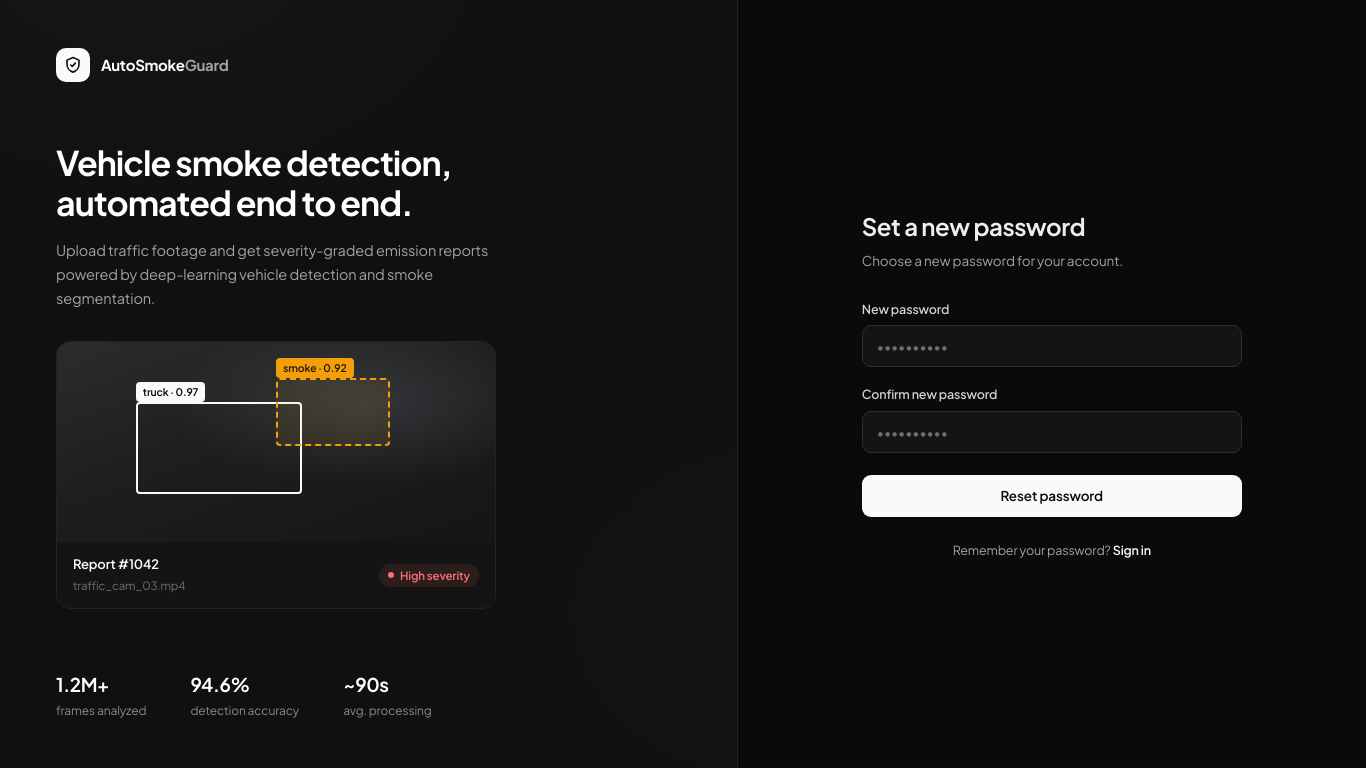
Test: ResetPasswordPage › announces a rejected reset request via role="alert" (D22)
Type "Passw0rd123" into the password field labelled "New password" at coordinates (1052, 346), box [862,325,1242,367]
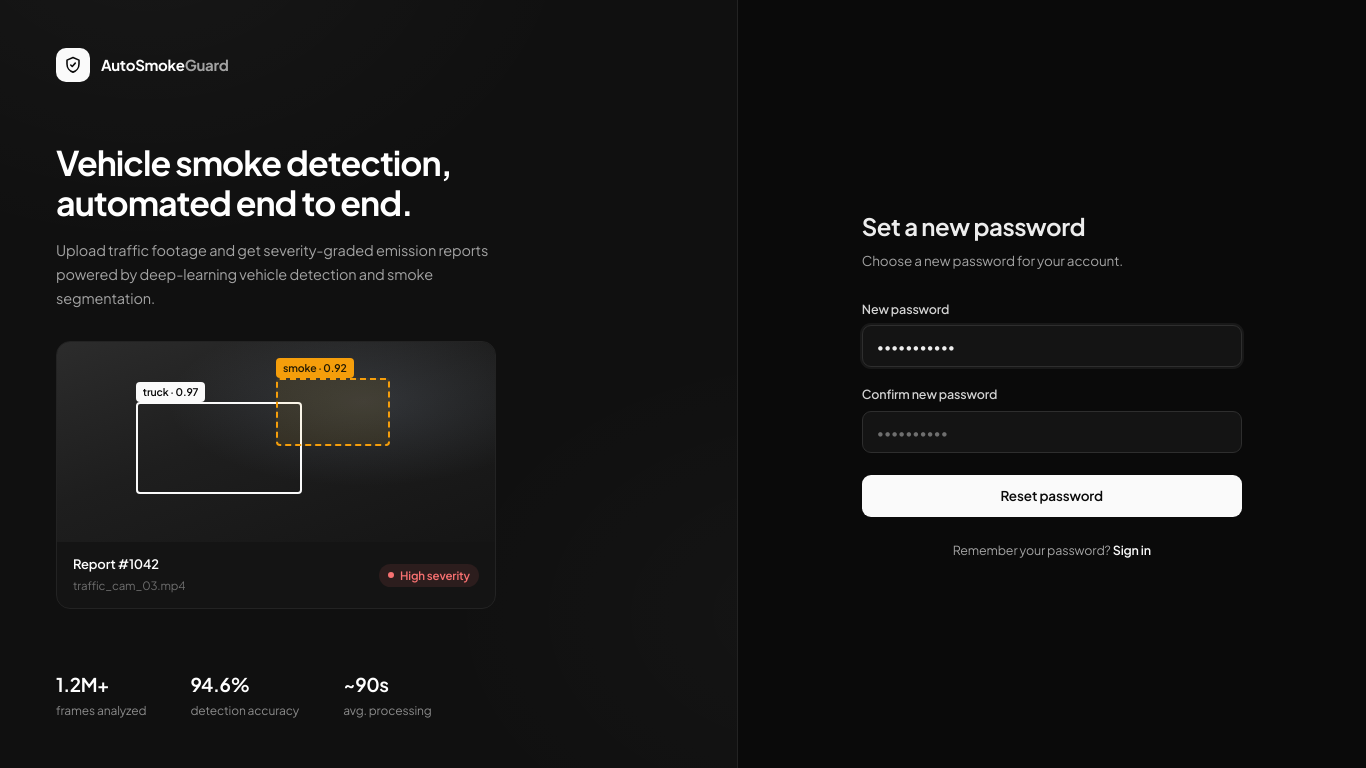
Type "Passw0rd123" into the password field labelled "Confirm new password" at coordinates (1052, 432), box [862,411,1242,453]
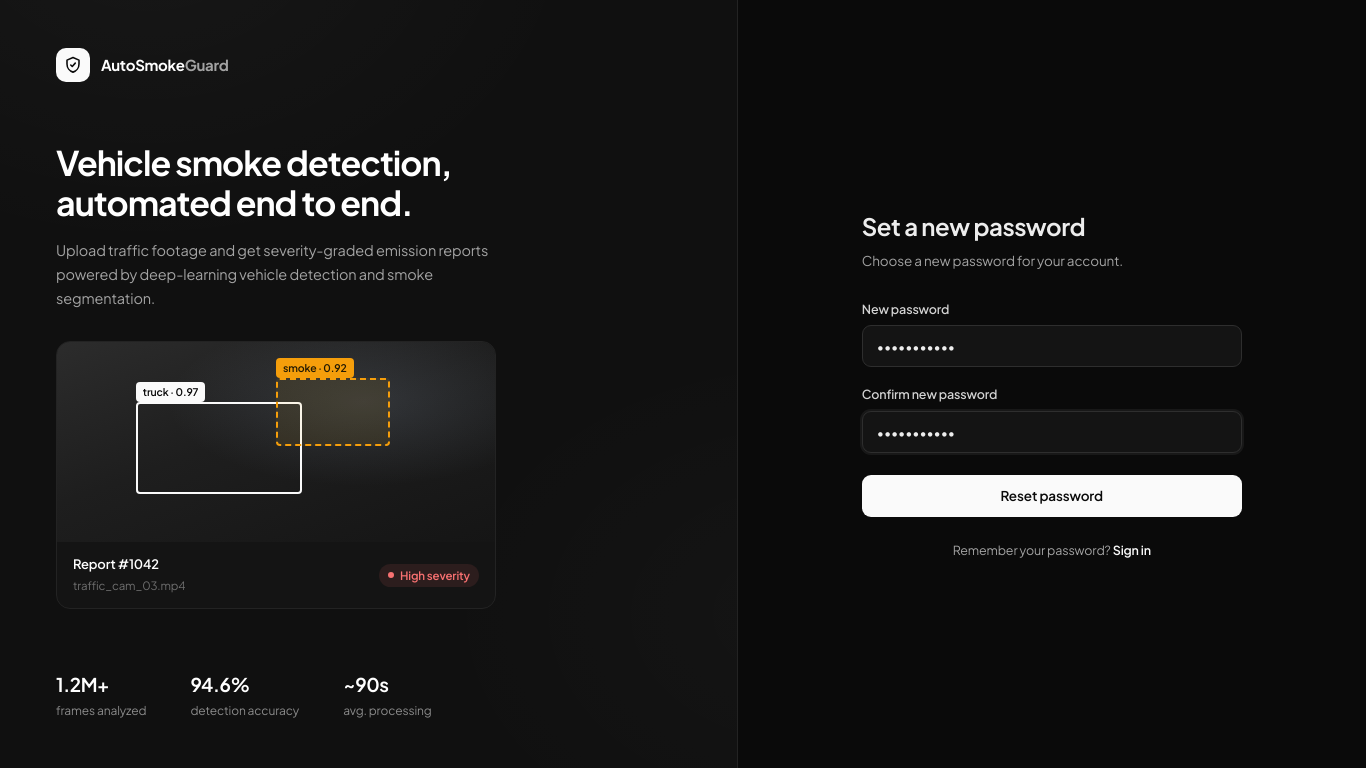
Click the button "Reset password" at coordinates (1052, 496), box [862,475,1242,517]
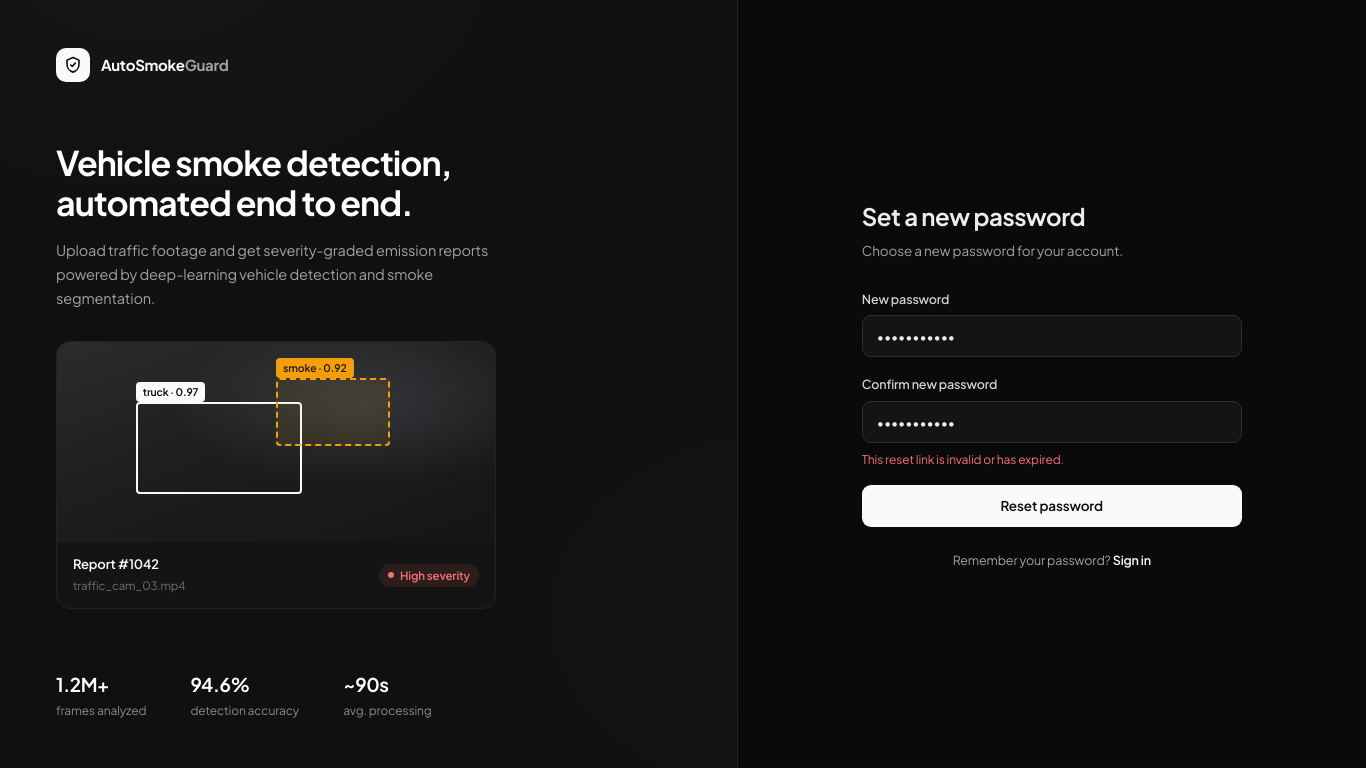
Check: the message shows "invalid or has expired", box [862,452,1064,467]
